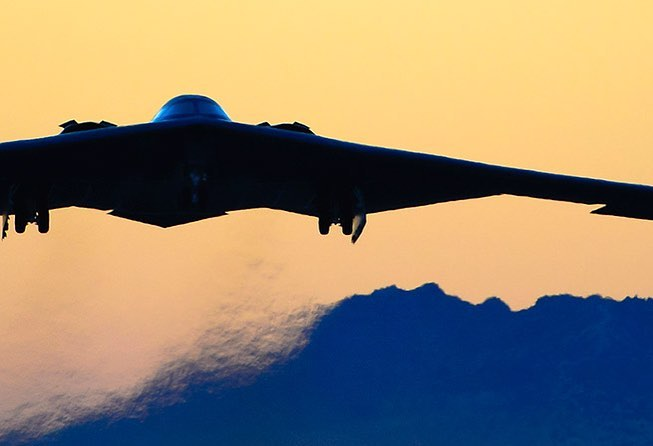B2: (1, 93, 653, 244)
